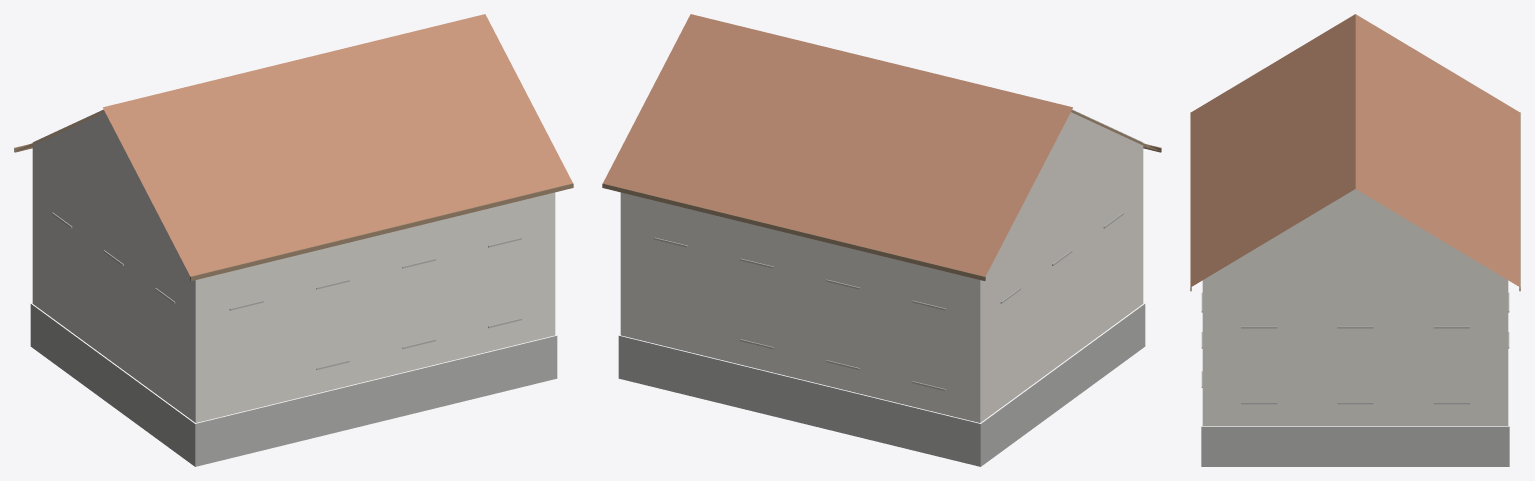
The model's file is villa.glb.
The picture shows the model from 3 angles, left to right: view 1: azimuth 30°, elevation 25°; view 2: azimuth 150°, elevation 25°; view 3: azimuth 270°, elevation 25°; orthographic projection. The views are drawn at different scales.
Parts seen in each view (by area): view 1: hi, far; view 2: hi, far; view 3: hi, far.
Boxes of the visible parts, x1,y1,x2,y2 form: hi: (14, 14, 573, 466); far: (32, 144, 555, 422); hi: (602, 14, 1161, 466); far: (620, 144, 1143, 422); hi: (1190, 14, 1520, 466); far: (1202, 275, 1508, 425).
Size of the model in its own units: 14.9 by 11.23 by 11.9.
